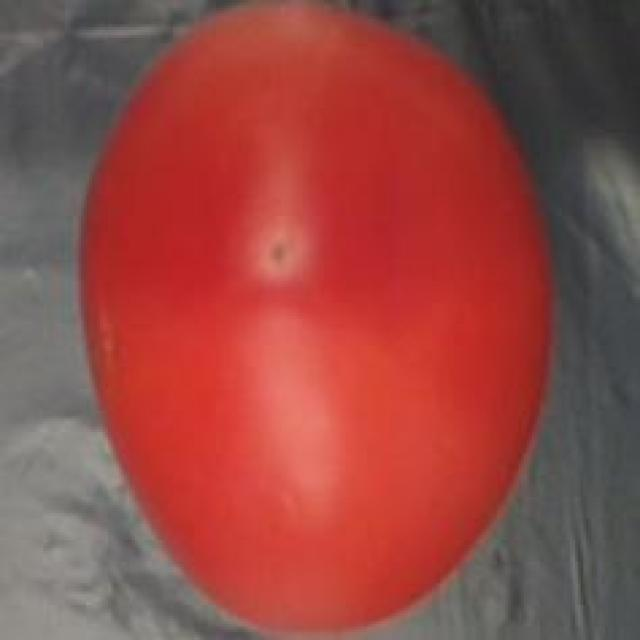ripe tomato: (73, 8, 562, 640)
